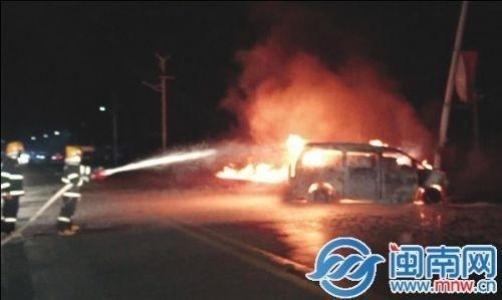fire: (217, 131, 340, 184)
